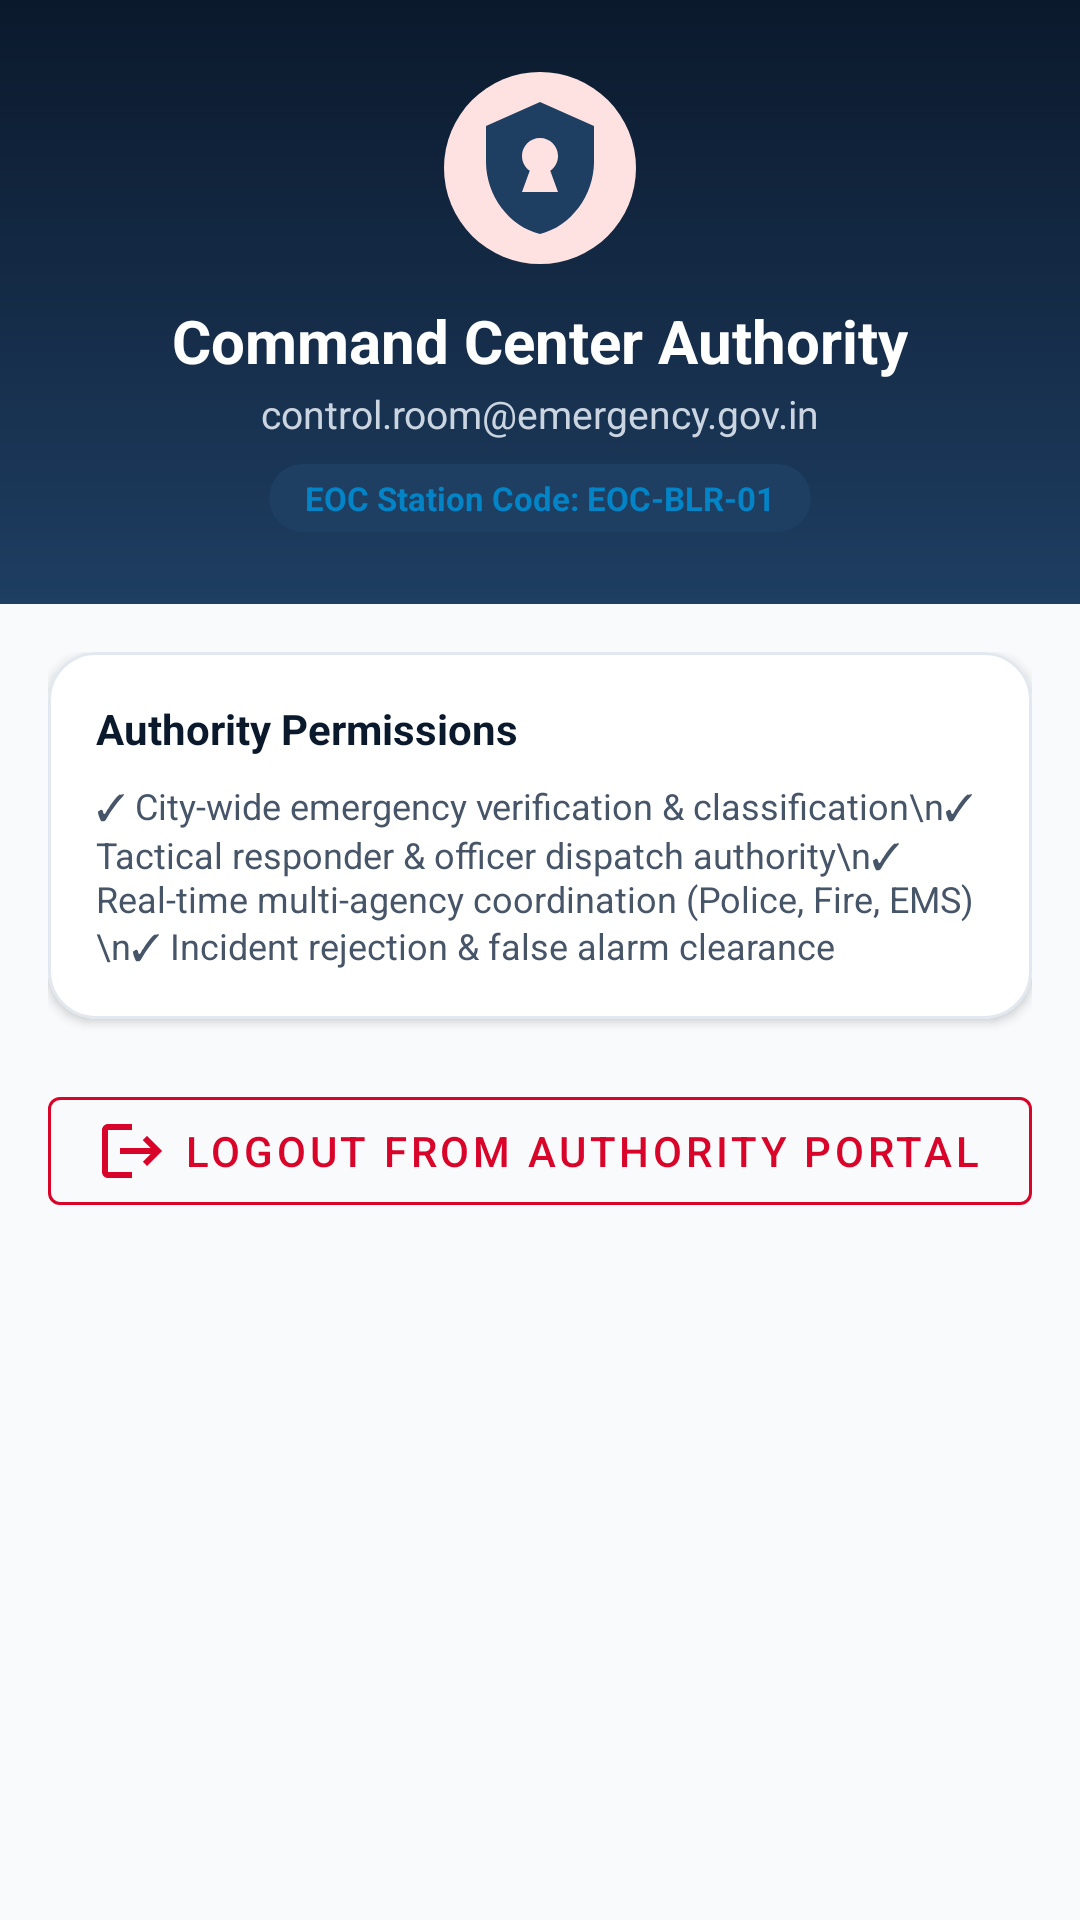

Screen size 1080x1920. Icon name, then its center in pixels as [x,y]:
role authority: [540,168]
